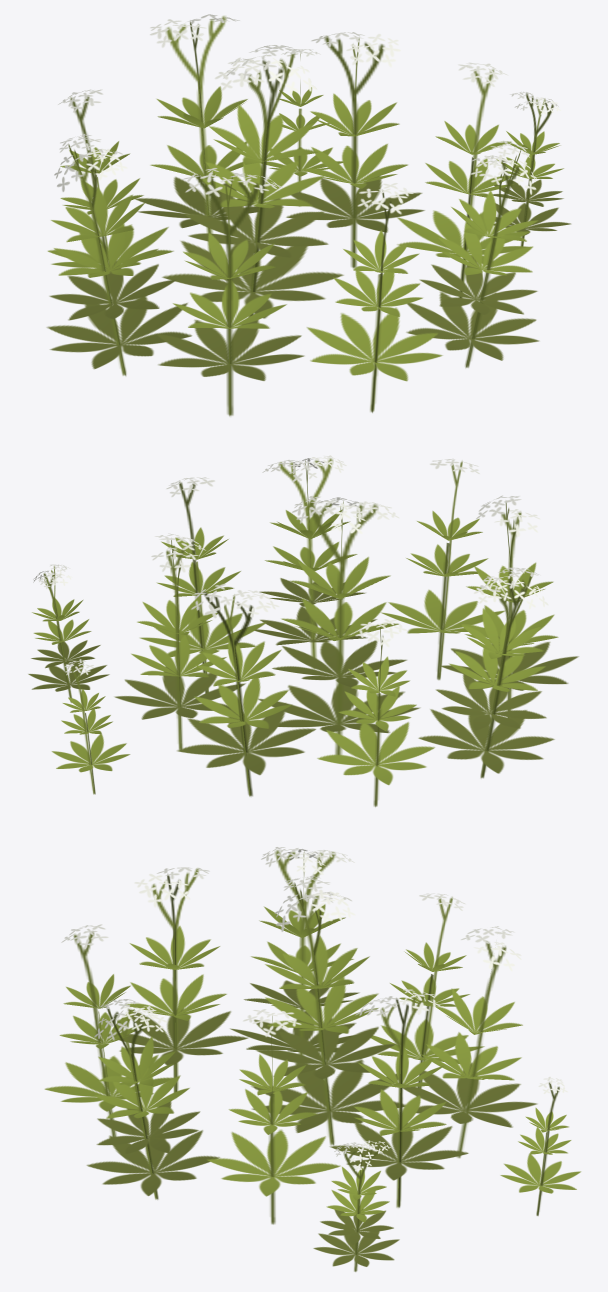
File: Woodruff_Cluster_3.glb
3 renders of one model, top to bottom at view 1: azimuth 30°, elevation 25°; view 2: azimuth 150°, elevation 25°; view 3: azimuth 270°, elevation 25°, orthographic. The views are drawn at different scales.
Visible parts, largest first — view 1: Woodruff_Cluster_3; view 2: Woodruff_Cluster_3; view 3: Woodruff_Cluster_3.
Part boxes in pixels (x1,y1,x2,y2): Woodruff_Cluster_3: (46,14,570,416); Woodruff_Cluster_3: (28,455,578,806); Woodruff_Cluster_3: (44,847,581,1271).
Size of the model in its own units: 1.13 by 0.5367 by 1.07.
1 material, 1 textured.
